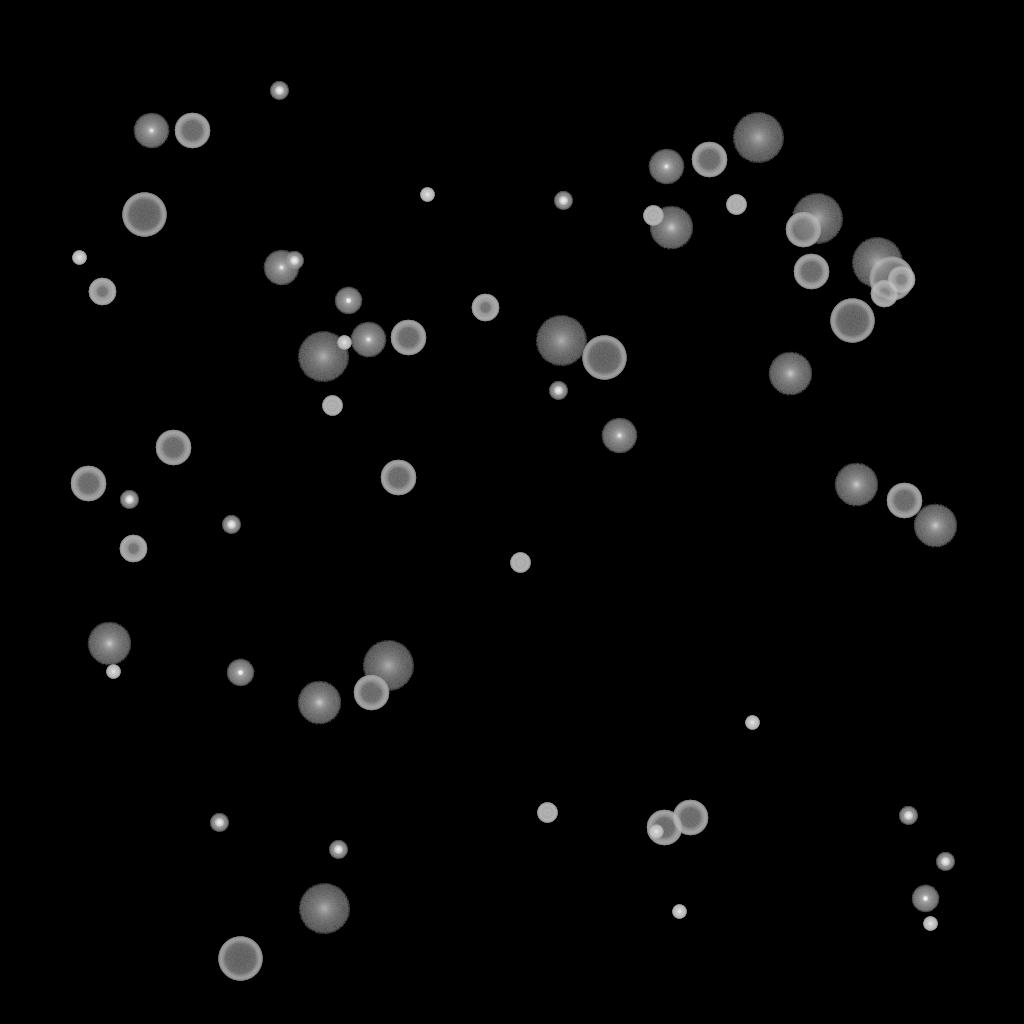depth:-10: (226, 659, 254, 687), (334, 287, 362, 315), (911, 885, 939, 913)
depth:-20: (936, 853, 954, 871), (210, 814, 228, 832), (270, 82, 288, 100), (554, 192, 572, 210), (899, 807, 917, 825), (222, 516, 240, 534), (549, 382, 567, 400), (329, 841, 347, 859), (120, 491, 138, 509), (285, 252, 303, 270)
depth:-30: (923, 917, 937, 931), (72, 251, 86, 265), (672, 905, 686, 919), (337, 336, 351, 350), (420, 188, 434, 202), (745, 716, 759, 730), (106, 665, 120, 679), (649, 825, 663, 839)
depth:-40: (537, 803, 557, 823), (322, 396, 342, 416), (726, 195, 746, 215), (510, 553, 530, 573), (643, 206, 663, 226)
depth:-50: (471, 294, 499, 322), (88, 278, 116, 306), (887, 266, 915, 294), (119, 535, 147, 563), (870, 280, 898, 308)
depth:-60: (793, 254, 829, 290), (70, 466, 106, 502), (155, 430, 191, 466), (174, 113, 210, 149), (886, 483, 922, 519), (353, 675, 389, 711), (691, 142, 727, 178), (785, 212, 821, 248), (390, 320, 426, 356), (646, 810, 682, 846), (672, 800, 708, 836), (380, 460, 416, 496)
depth:-70: (122, 193, 166, 237), (869, 257, 913, 301), (218, 937, 262, 981), (830, 299, 874, 343), (582, 336, 626, 380)
depth:0: (648, 149, 684, 185), (350, 322, 386, 358), (601, 418, 637, 454), (133, 113, 169, 149), (263, 250, 299, 286)
depth:10: (87, 622, 131, 666), (297, 681, 341, 725), (768, 352, 812, 396), (649, 206, 693, 250), (913, 504, 957, 548), (834, 463, 878, 507)
depth:20: (732, 113, 784, 163), (851, 238, 903, 288), (535, 316, 587, 366), (791, 194, 843, 244), (362, 641, 414, 691), (297, 332, 349, 382), (298, 884, 350, 934)
